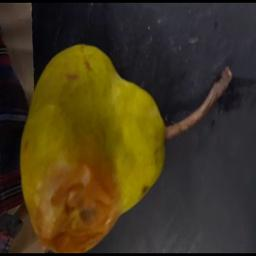Pear Rotten: (18, 36, 239, 252)
